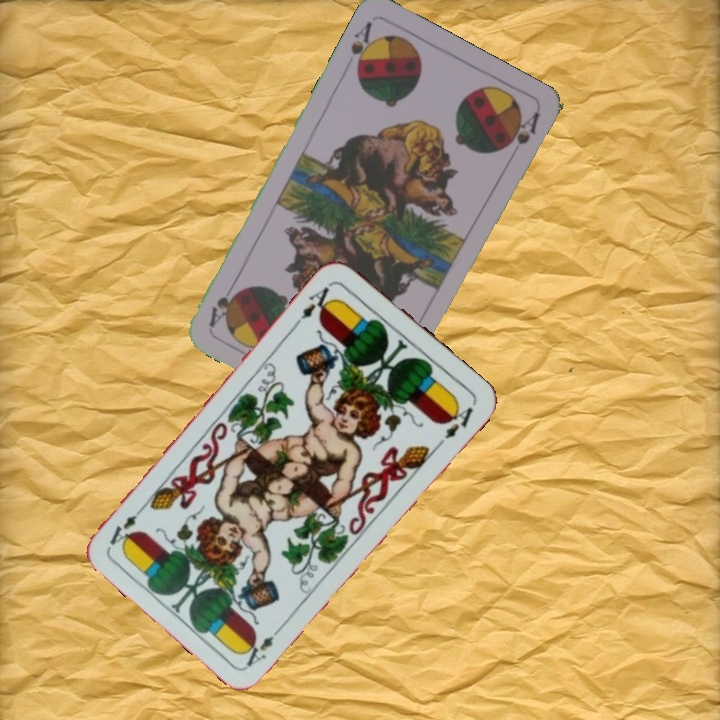EA: (237, 620, 286, 670), (291, 278, 338, 328)
SA: (346, 17, 379, 76)
